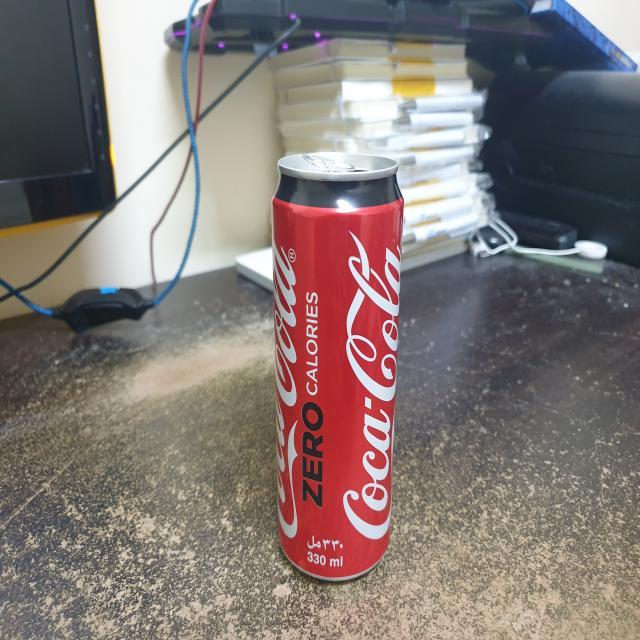can: (256, 130, 416, 594)
